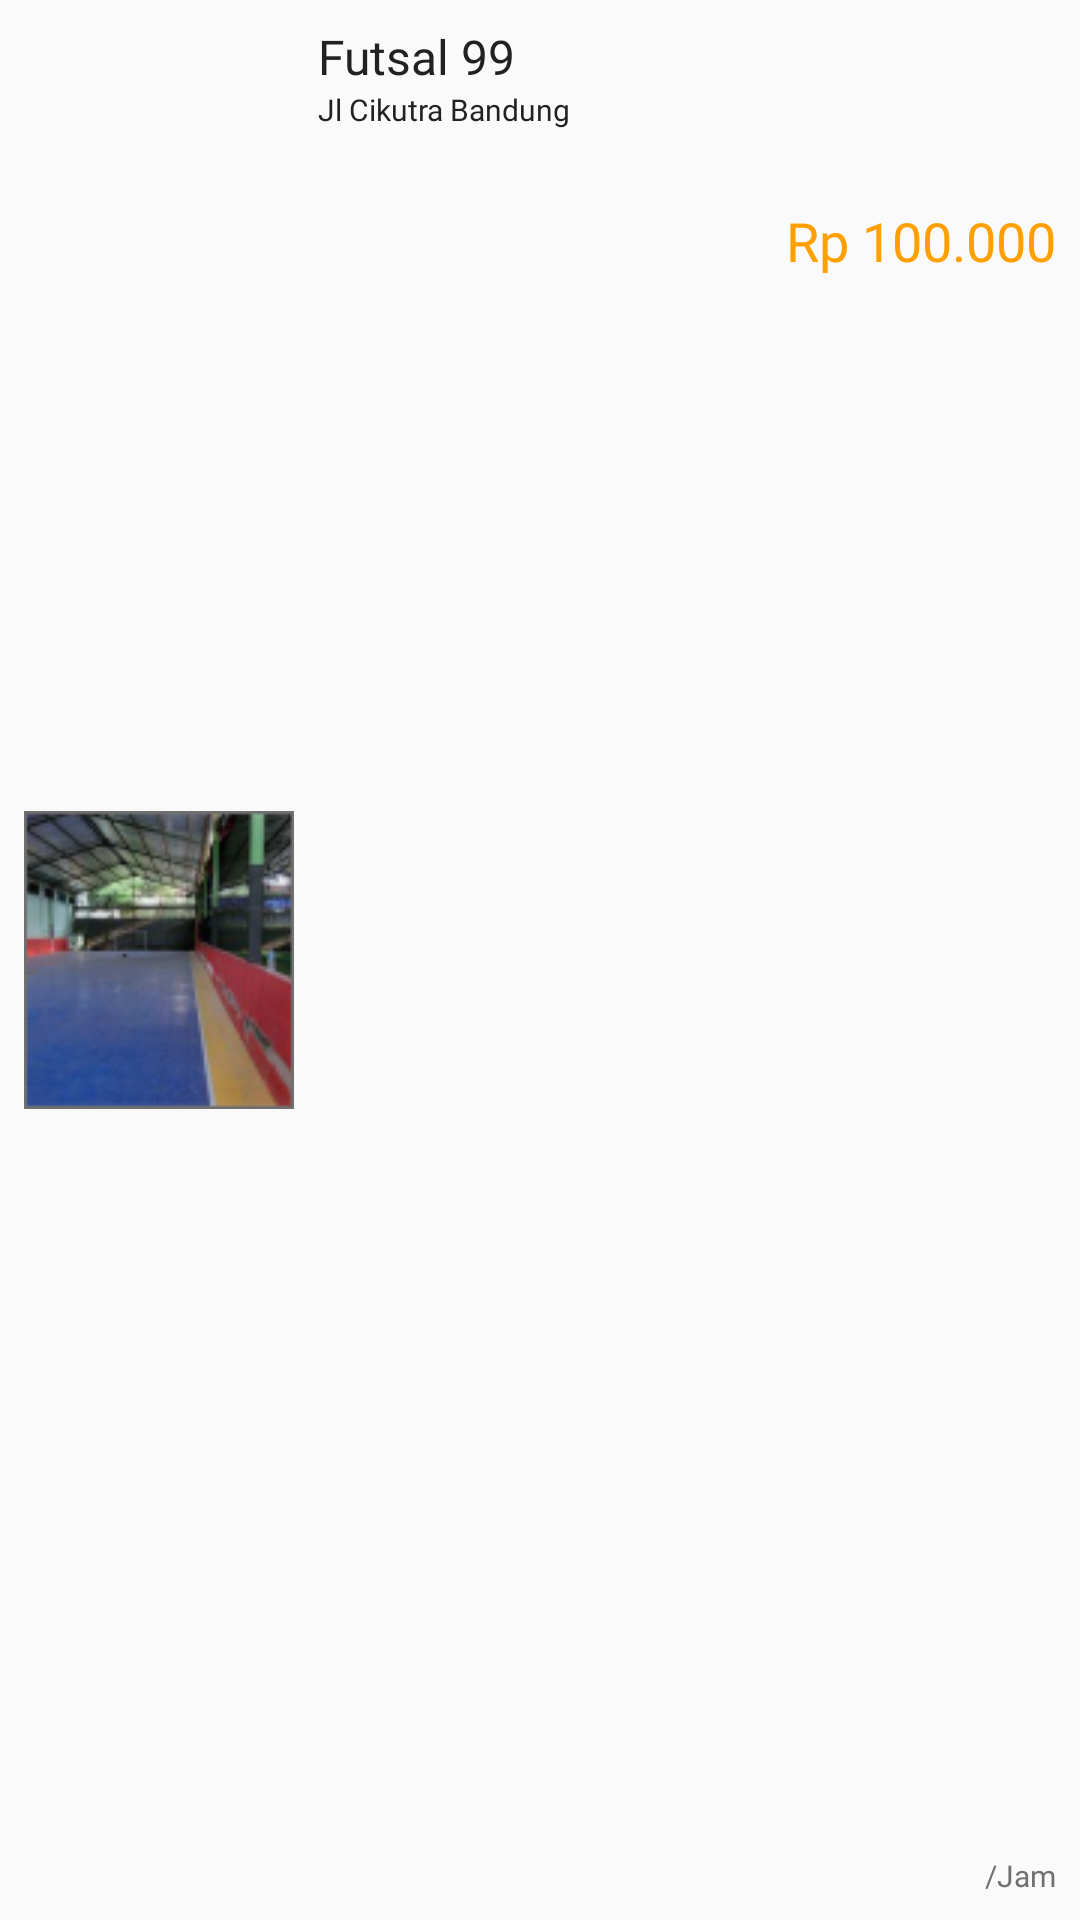

Icons on this 1080x1920 Android screen, each with the point to tap as (x=x, y=y):
futsal: (x=159, y=960)
